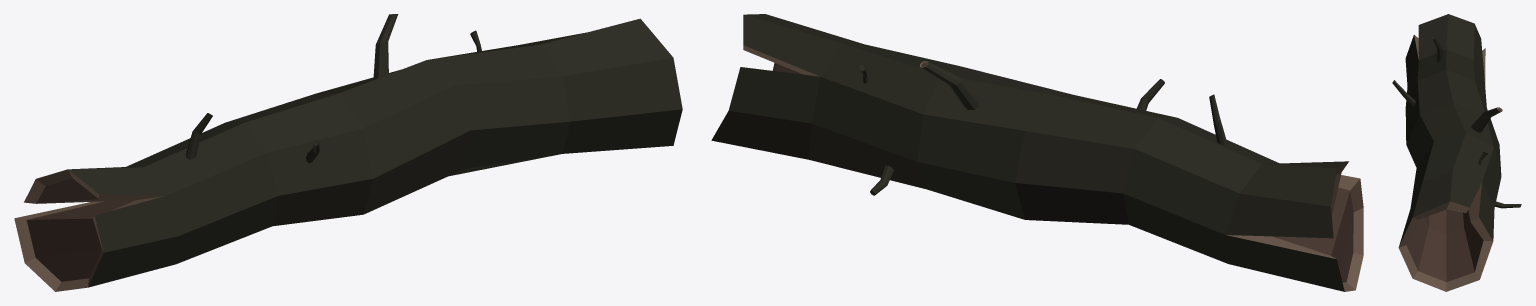
The model's file is Fallen_tree1.fbx.
The picture shows the model from 3 angles, left to right: view 1: azimuth 30°, elevation 25°; view 2: azimuth 150°, elevation 25°; view 3: azimuth 270°, elevation 25°; orthographic projection. The views are drawn at different scales.
Parts seen in each view (by area): view 1: Fallen tree1; view 2: Fallen tree1; view 3: Fallen tree1.
Boxes of the visible parts, <box> form: Fallen tree1: <box>14,14,682,291</box>; Fallen tree1: <box>711,14,1363,291</box>; Fallen tree1: <box>1392,14,1521,291</box>.
Bounding box in the file's own units: 206 × 51.11 × 54.54.
